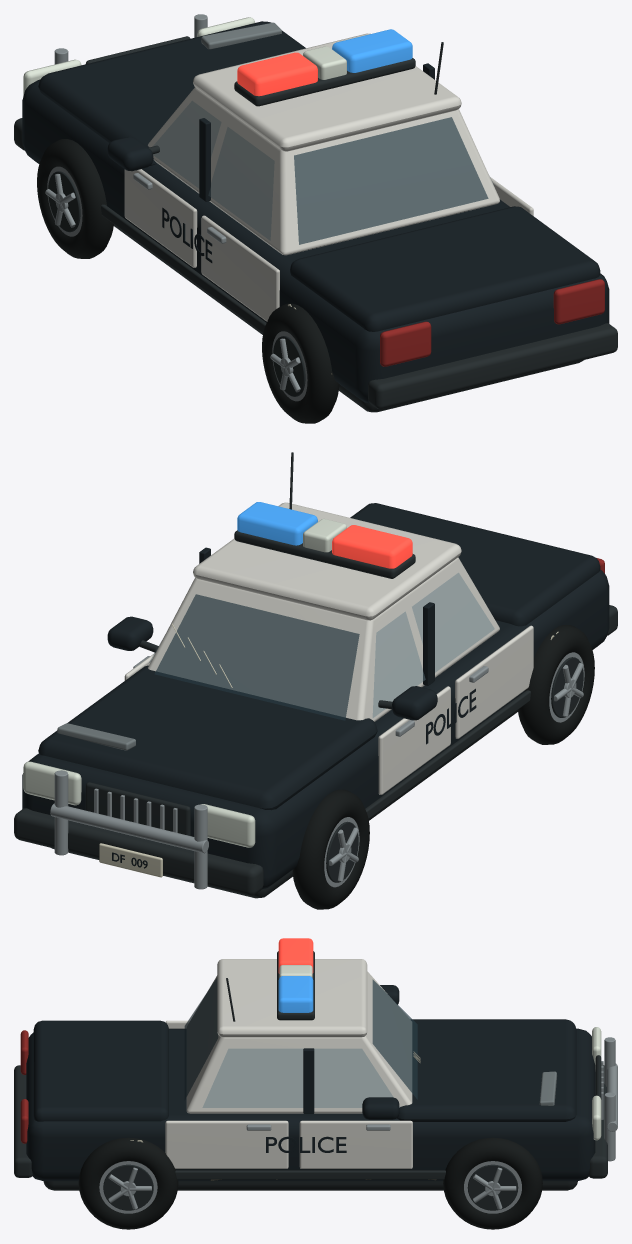
File: police_car.glb
3 renders of one model, top to bottom at view 1: azimuth 30°, elevation 25°; view 2: azimuth 150°, elevation 25°; view 3: azimuth 270°, elevation 25°, orthographic. The views are drawn at different scales.
Visible parts, largest first — view 1: Police cabin shell, Police rear deck, Police main body, Police rear windshield, Police hood, Police roof, Police rear bumper, Police tyre, Police tyre.001, Police rear side window, Police rear door paint, Police front door paint (+16 smaller); view 2: Police cabin shell, Police hood, Police main body, Police windshield, Police roof, Police rear deck, Police front bumper, Police tyre.001, Police tyre, Police rear door paint, Police rear side window, Police front door paint (+20 smaller); view 3: Police main body, Police cabin shell, Police hood, Police rear deck, Police roof, Police rear door paint.001, Police rear side window.001, Police front door paint.001, Police tyre.003, Police tyre.002, Police front side window.001, Police underbody (+20 smaller).
Part boxes in pixels (x1,y1,x2,y2): Police cabin shell: [148, 87, 499, 255]; Police rear deck: [290, 206, 600, 331]; Police main body: [22, 79, 609, 403]; Police rear windshield: [294, 117, 488, 244]; Police hood: [38, 21, 305, 165]; Police roof: [193, 33, 461, 151]; Police rear bumper: [368, 323, 617, 409]; Police tyre: [262, 303, 339, 423]; Police tyre.001: [37, 139, 113, 258]; Police rear side window: [208, 127, 274, 240]; Police rear door paint: [201, 215, 279, 321]; Police front door paint: [124, 169, 197, 267]; Police cabin shell: [148, 557, 499, 721]; Police hood: [38, 665, 377, 810]; Police main body: [22, 570, 609, 889]; Police windshield: [154, 594, 359, 720]; Police roof: [193, 502, 461, 620]; Police rear deck: [350, 503, 600, 626]; Police front bumper: [14, 808, 263, 895]; Police tyre.001: [292, 789, 369, 909]; Police tyre: [518, 625, 594, 744]; Police rear door paint: [455, 625, 533, 738]; Police rear side window: [412, 573, 494, 672]; Police front door paint: [378, 686, 450, 794]; Police main body: [26, 1028, 595, 1181]; Police cabin shell: [186, 971, 412, 1113]; Police hood: [397, 1019, 576, 1121]; Police rear deck: [33, 1020, 168, 1121]; Police roof: [217, 959, 367, 1037]; Police rear door paint.001: [165, 1120, 288, 1168]; Police rear side window.001: [202, 1048, 303, 1107]; Police front door paint.001: [299, 1120, 412, 1168]; Police tyre.003: [443, 1137, 542, 1229]; Police tyre.002: [78, 1137, 178, 1229]; Police front side window.001: [314, 1048, 400, 1107]; Police underbody: [43, 1181, 577, 1190].
Bounding box in the file's own units: 2.38 × 2.06 × 4.9.
